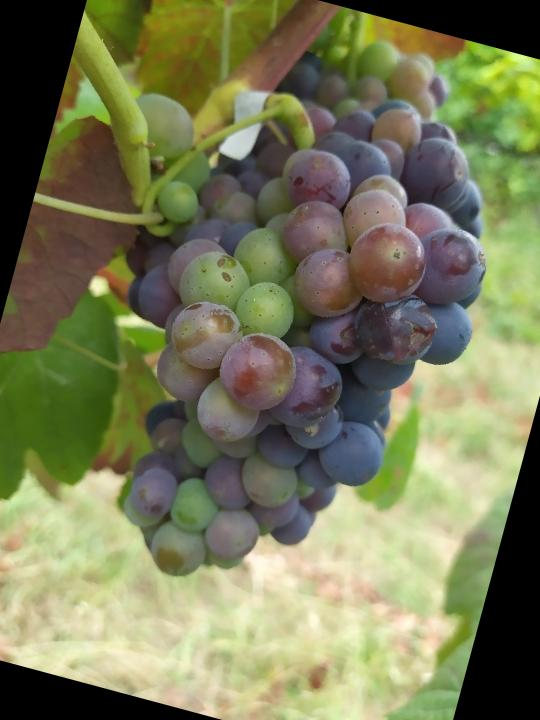grape: (64, 51, 530, 639)
